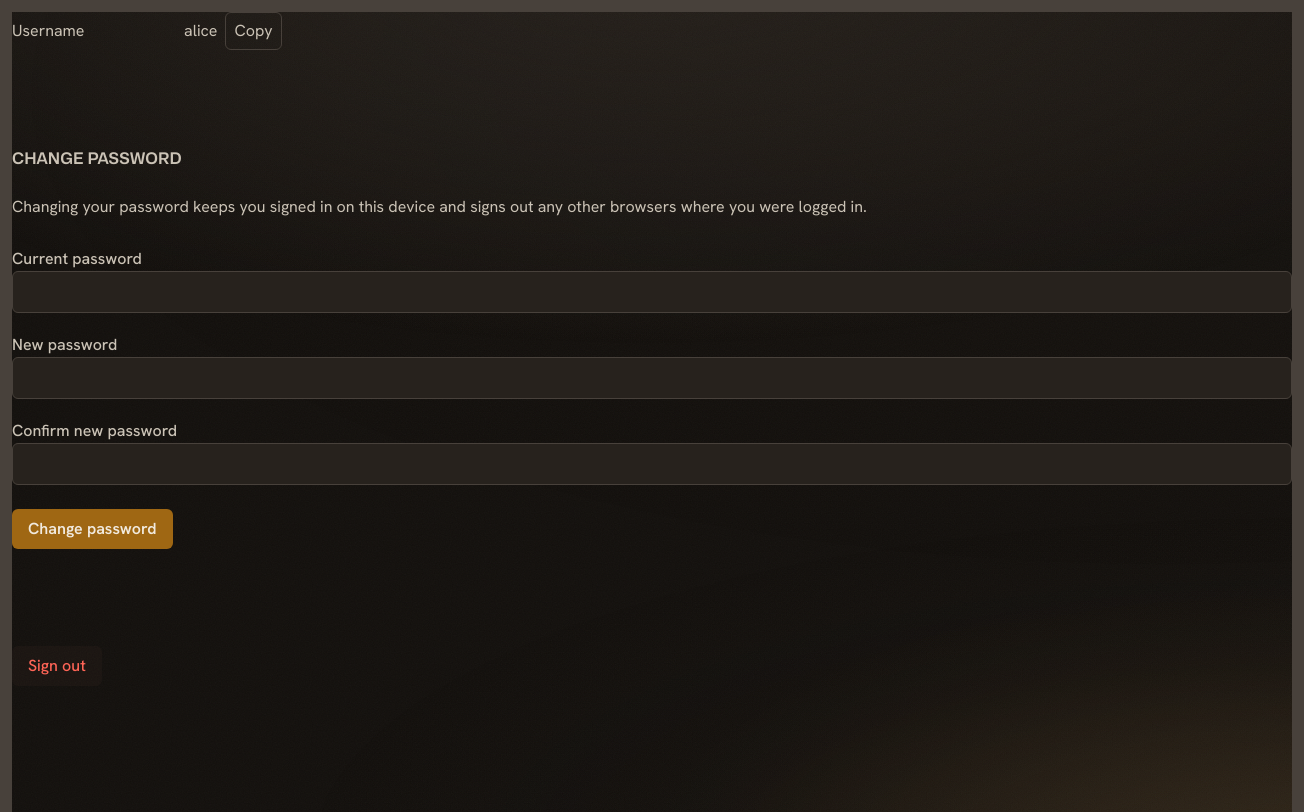
Test: AccountSection › rejects mismatched confirm without hitting the API
Type "oldpw1234" into the password field with test id "account-old-password" at [652, 292], box [12,271,1292,313]
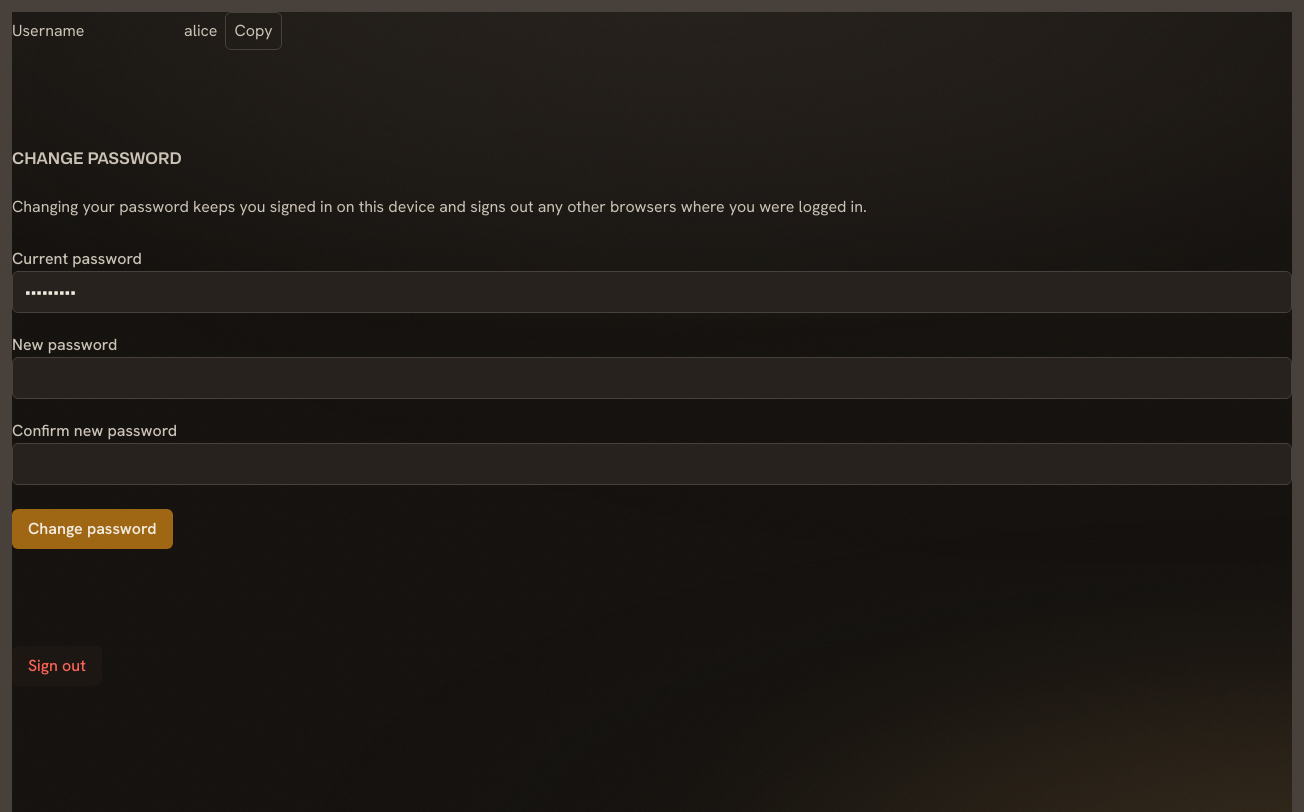
Type "newpw5678" into the password field with test id "account-new-password" at [652, 378], box [12,357,1292,399]
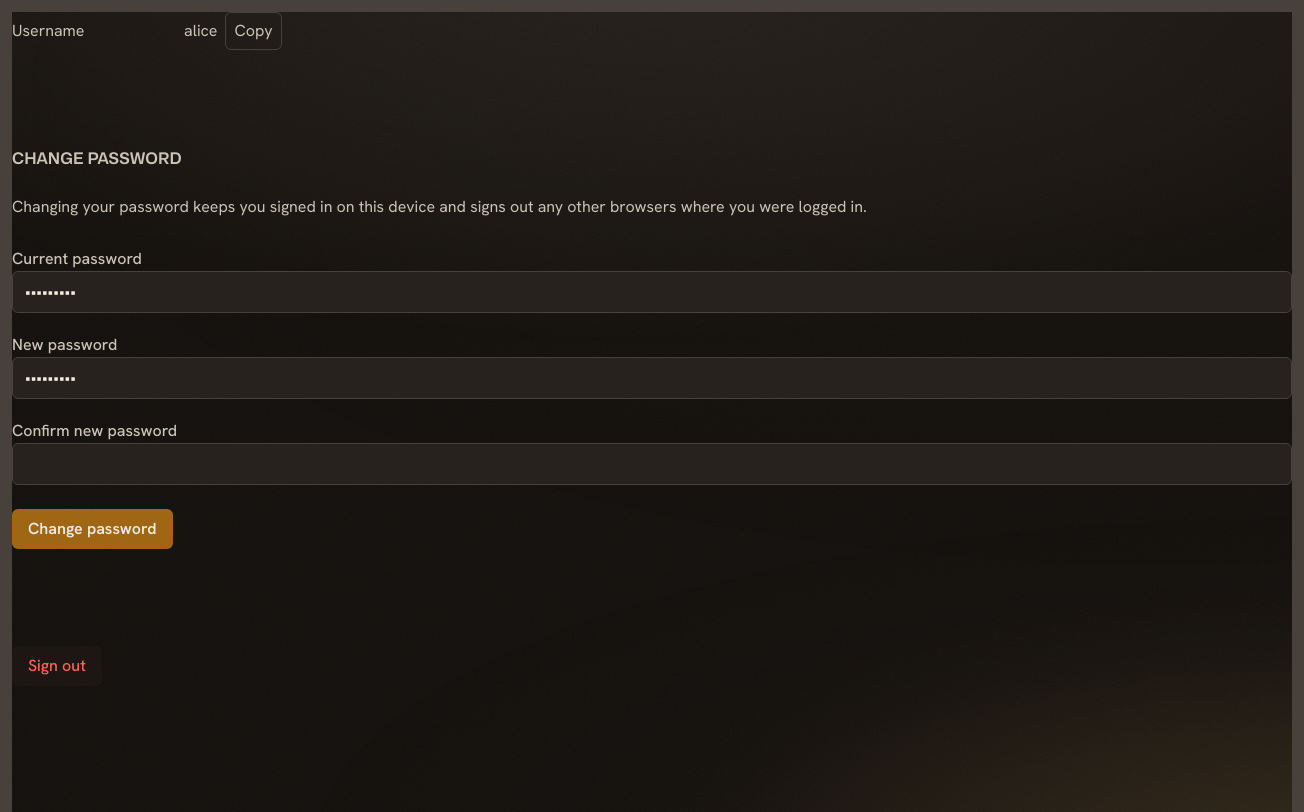
Type "different9" into the password field with test id "account-confirm-password" at [652, 464], box [12,443,1292,485]
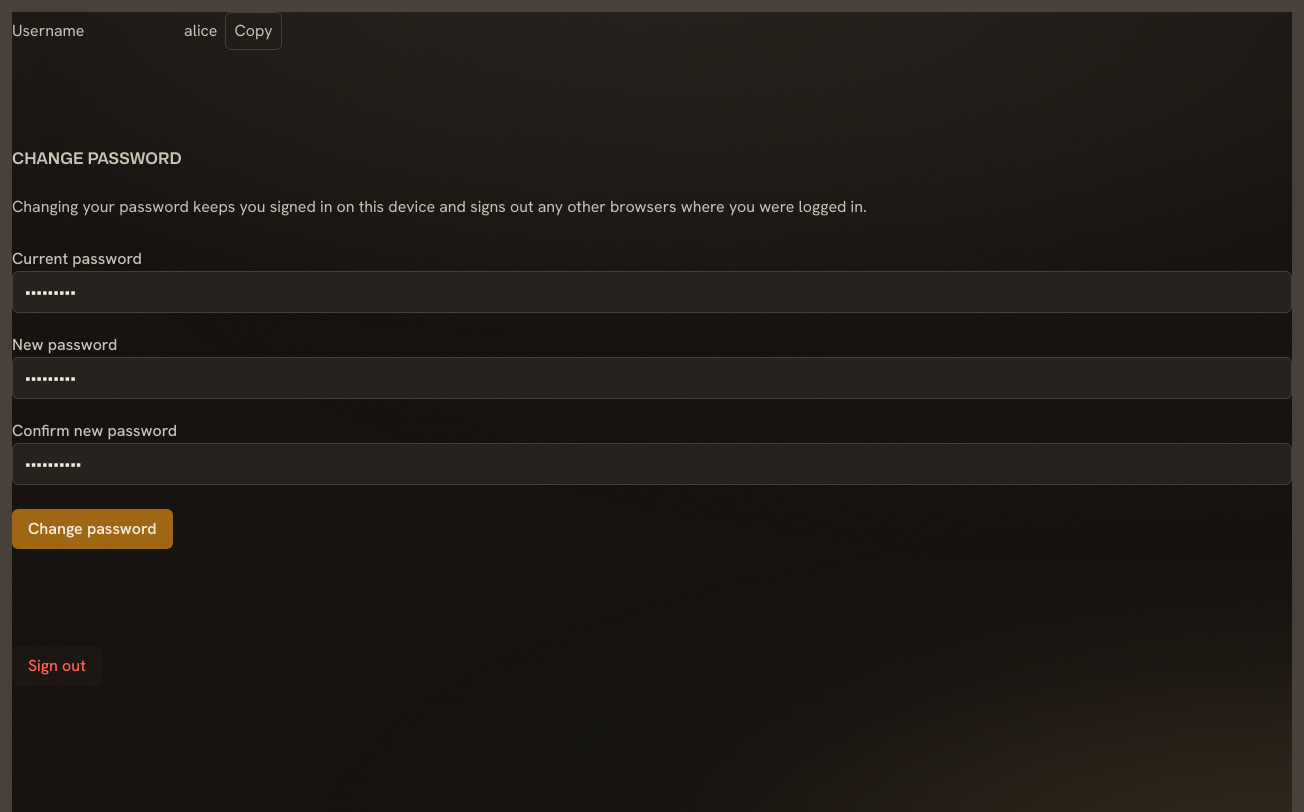
Click the button with test id "account-change-password-submit" at [92, 529], box [12,509,173,549]
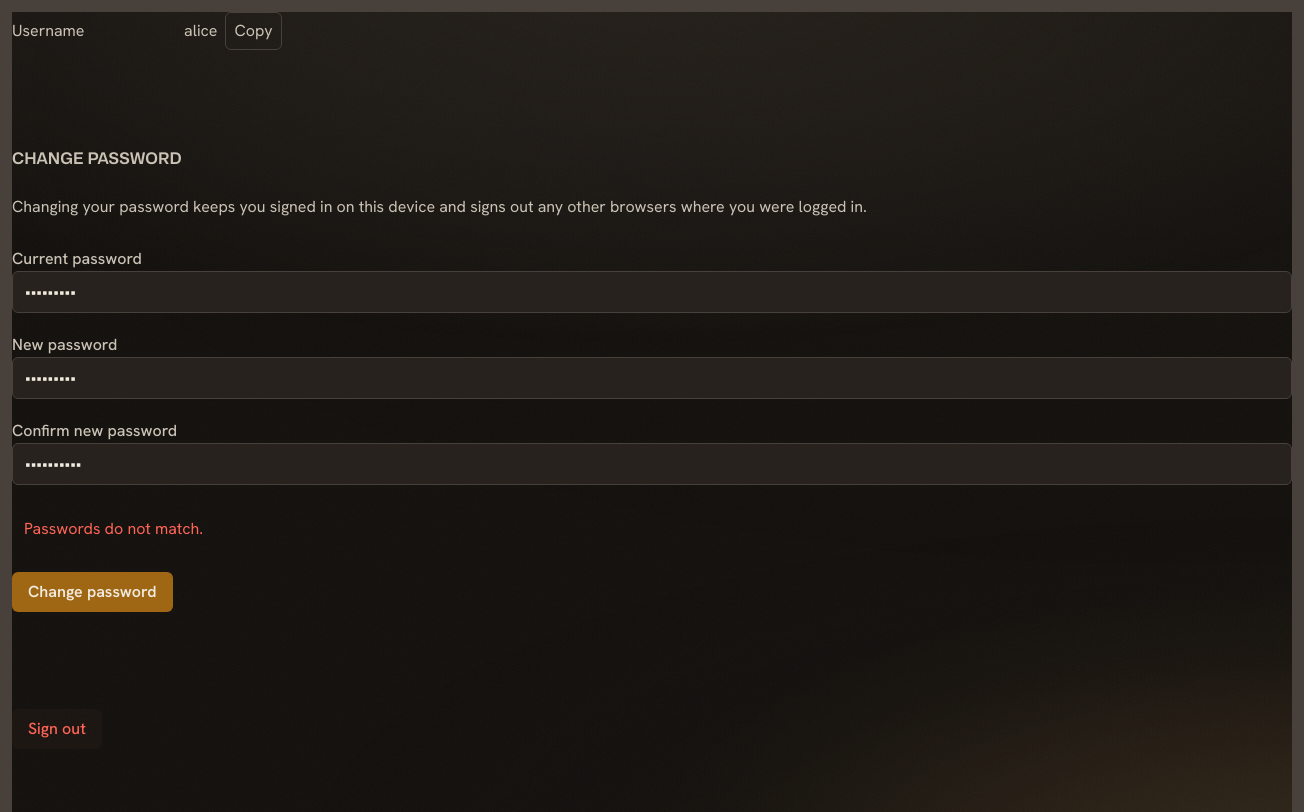
Now the message with test id "account-pw-error" reads "Passwords do not match.", box [24,518,203,539]
